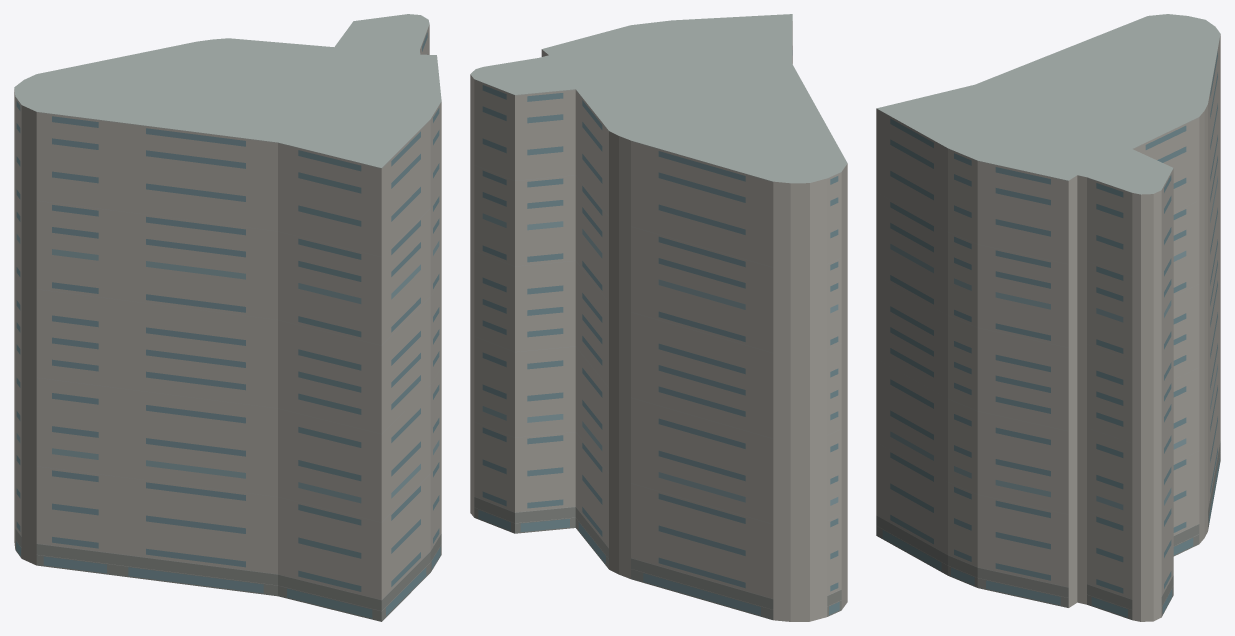
File: residential-5dfda183-e93c-48ff-b135-30b6f6a98240.glb
3 views of the same model, side by side, from view 1: azimuth 30°, elevation 25°; view 2: azimuth 150°, elevation 25°; view 3: azimuth 270°, elevation 25° (orthographic). The views are drawn at different scales.
Parts seen in each view (by area): view 1: residential-5dfda183-e93c-48ff-b135-30b6f6a98240.tmp; view 2: residential-5dfda183-e93c-48ff-b135-30b6f6a98240.tmp; view 3: residential-5dfda183-e93c-48ff-b135-30b6f6a98240.tmp.
Part boxes in pixels (x1,y1,x2,y2): residential-5dfda183-e93c-48ff-b135-30b6f6a98240.tmp: (14,14,441,621); residential-5dfda183-e93c-48ff-b135-30b6f6a98240.tmp: (470,14,847,621); residential-5dfda183-e93c-48ff-b135-30b6f6a98240.tmp: (876,14,1220,621).
Bounding box in the file's own units: 128 × 141 × 103.
